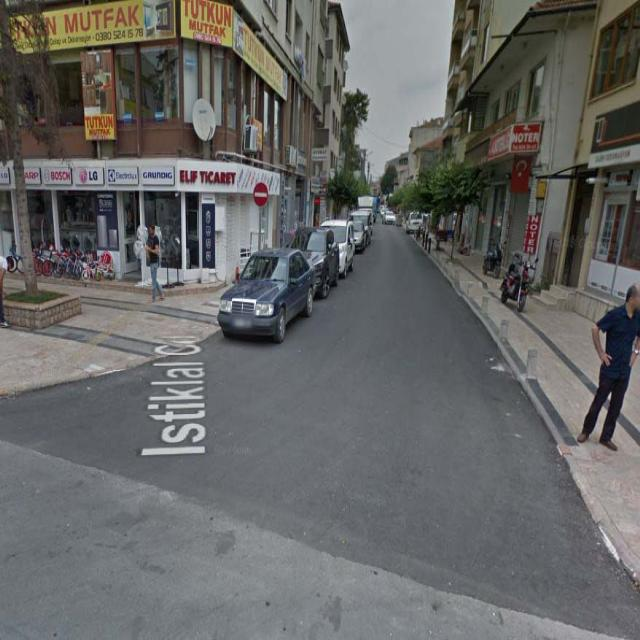girisyok: (252, 180, 269, 208)
